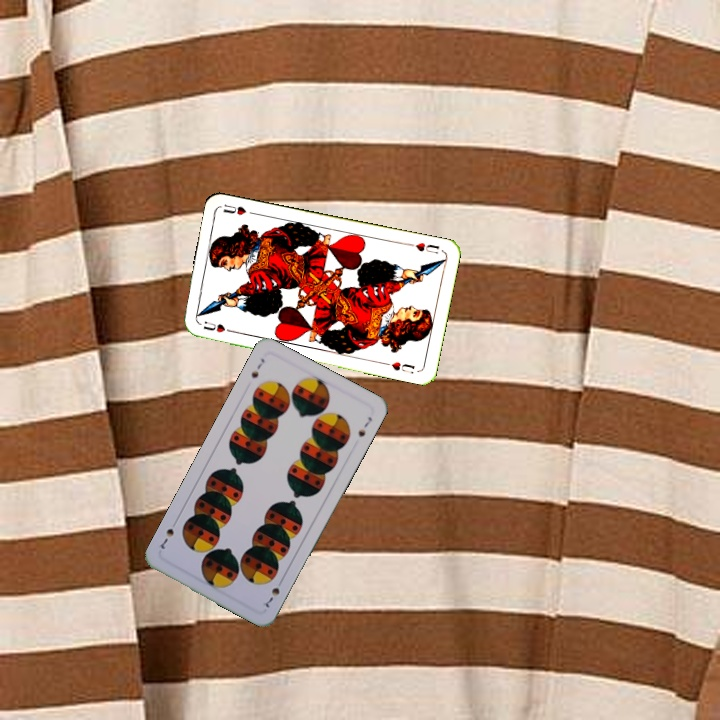HU: (404, 238, 442, 257), (199, 317, 228, 335)
S7: (261, 575, 286, 610), (247, 354, 267, 381)
